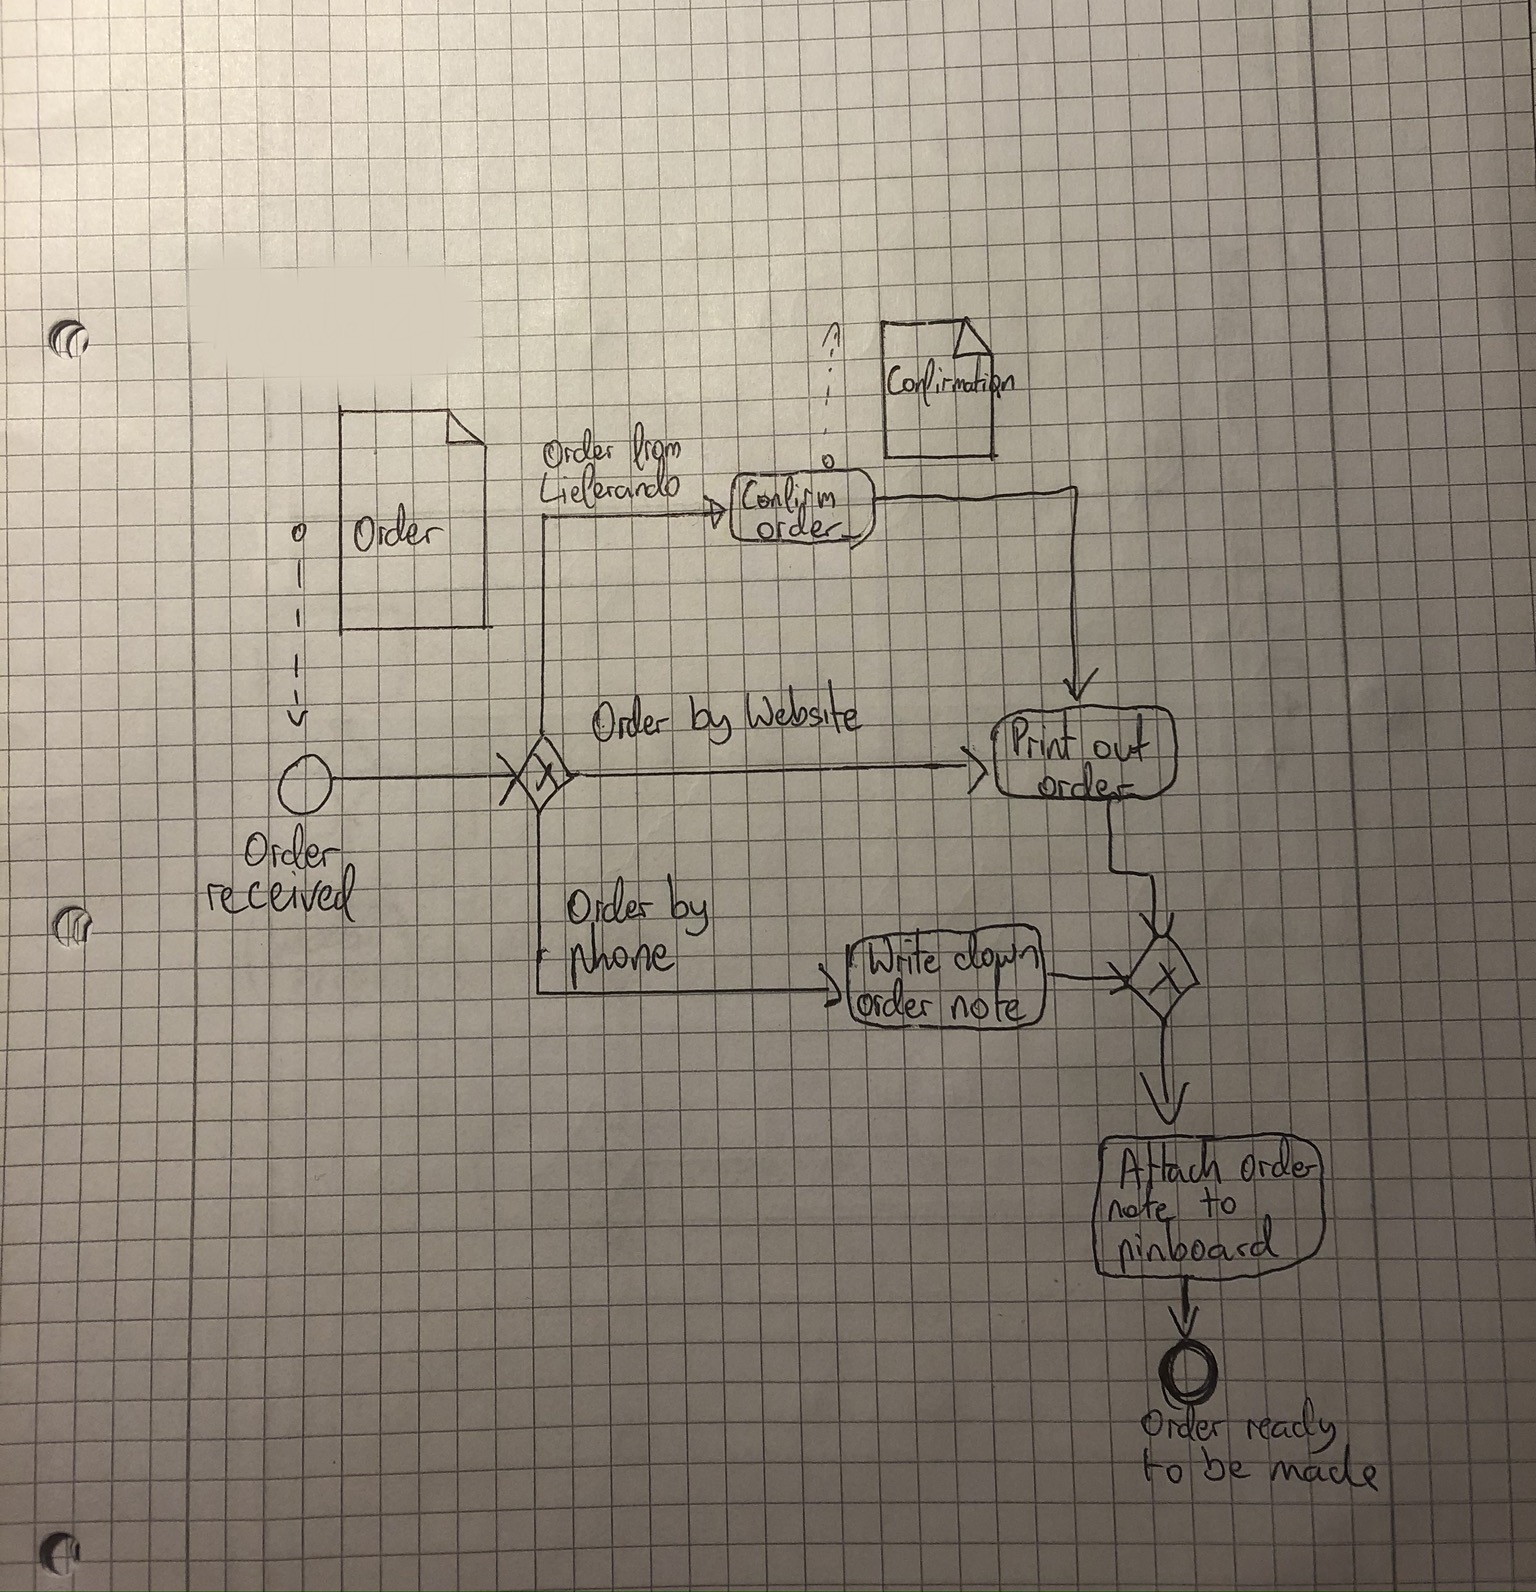Attach: (1115, 1137, 1225, 1193)
Confirm: (737, 476, 843, 513)
Confirmation: (884, 357, 1020, 405)
Lieferando: (537, 458, 685, 509)
Order: (351, 500, 448, 554), (585, 687, 675, 743), (242, 824, 347, 871), (564, 876, 655, 925), (539, 426, 618, 472), (1135, 1407, 1228, 1443)
Print: (1009, 714, 1080, 766)
Website: (742, 679, 865, 733)
Write: (862, 932, 943, 978)
be: (1195, 1444, 1255, 1484)
by: (664, 870, 713, 940), (686, 694, 737, 748)
down: (952, 930, 1044, 972)
from: (624, 418, 683, 470)
made: (1265, 1443, 1384, 1495)
note: (946, 981, 1032, 1023), (1101, 1184, 1181, 1227)
order: (1036, 758, 1142, 802), (1235, 1139, 1323, 1185), (853, 977, 938, 1021), (756, 505, 850, 544)
out: (1088, 711, 1157, 766)
phone: (567, 925, 681, 989)
pinboard: (1113, 1217, 1283, 1272)
ready: (1242, 1394, 1340, 1456)
received: (203, 867, 362, 918)
to: (1194, 1183, 1243, 1222), (1138, 1448, 1186, 1488)
